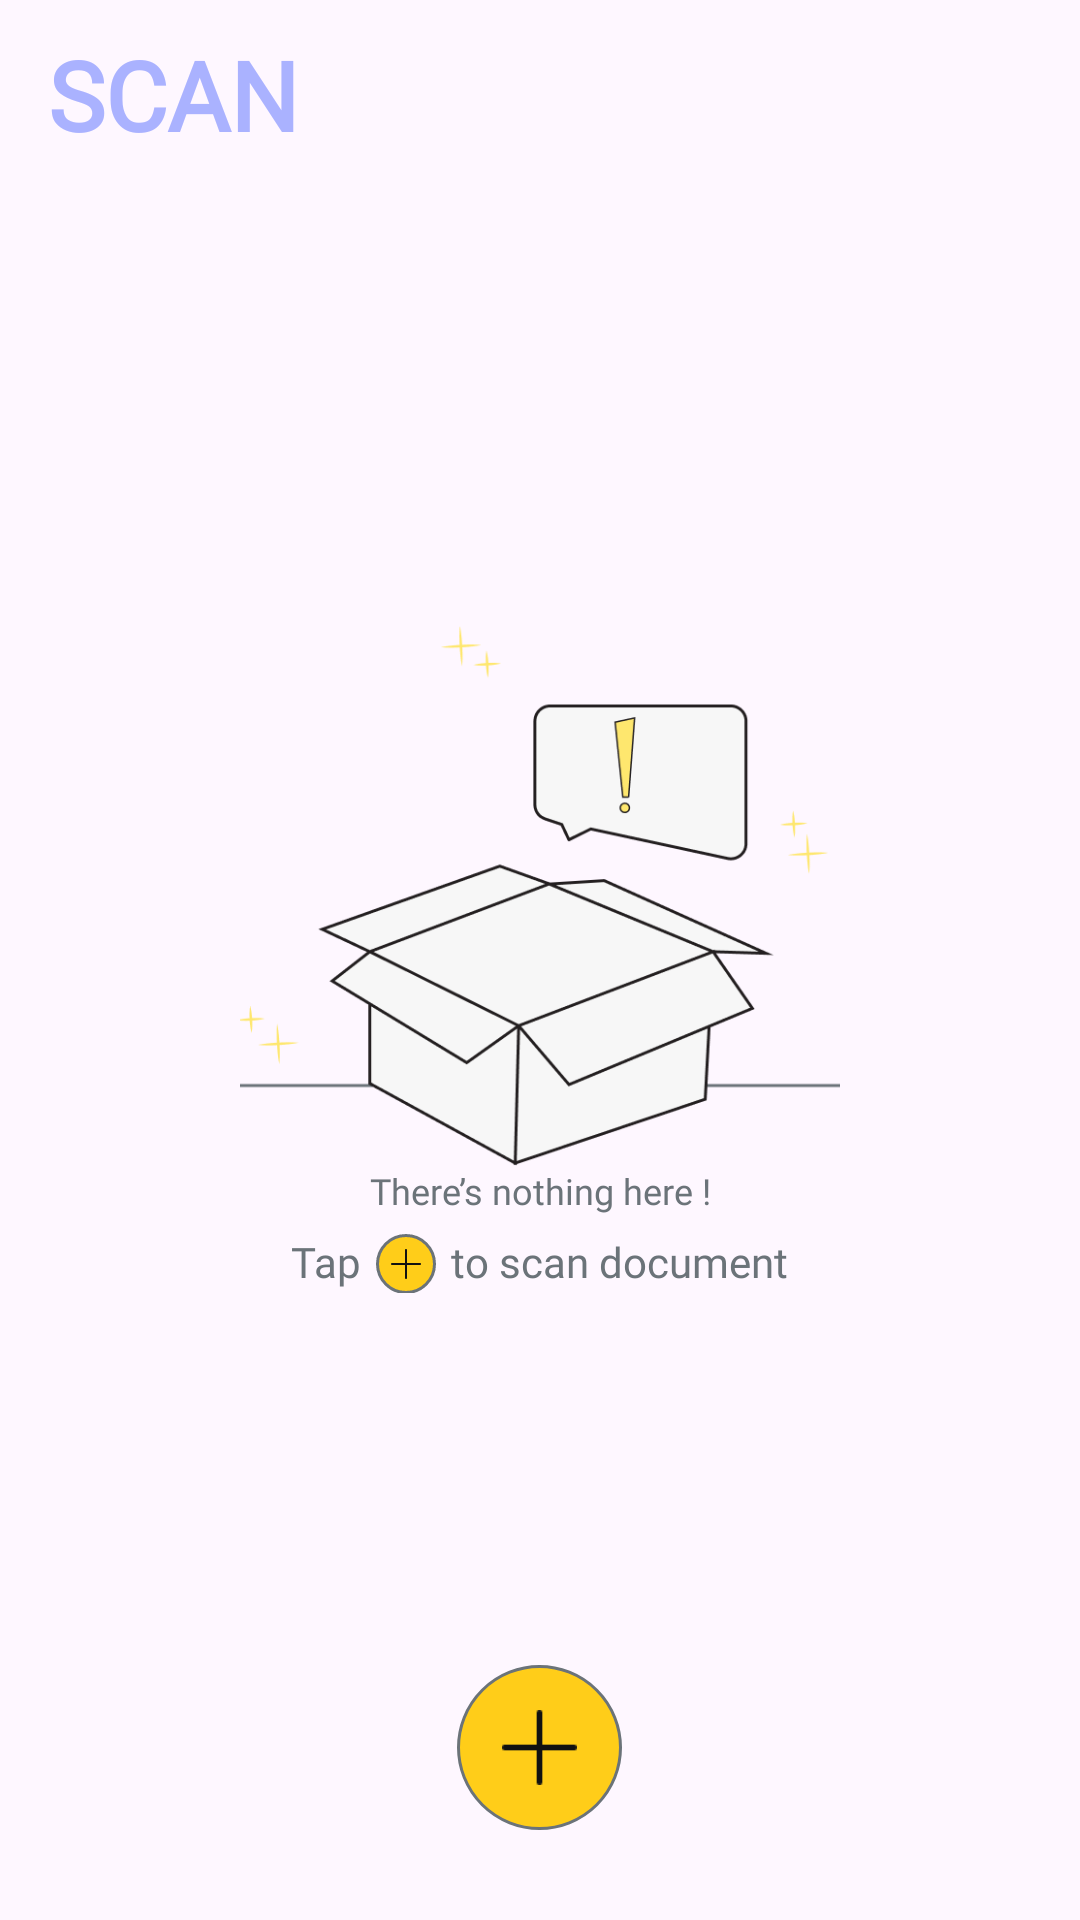

Icon bounding boxes for this 1080 x 1920 phone screenshot, format (x1, y1, x2, y2):
scan add: (391, 1249, 421, 1279), (502, 1710, 577, 1785)
